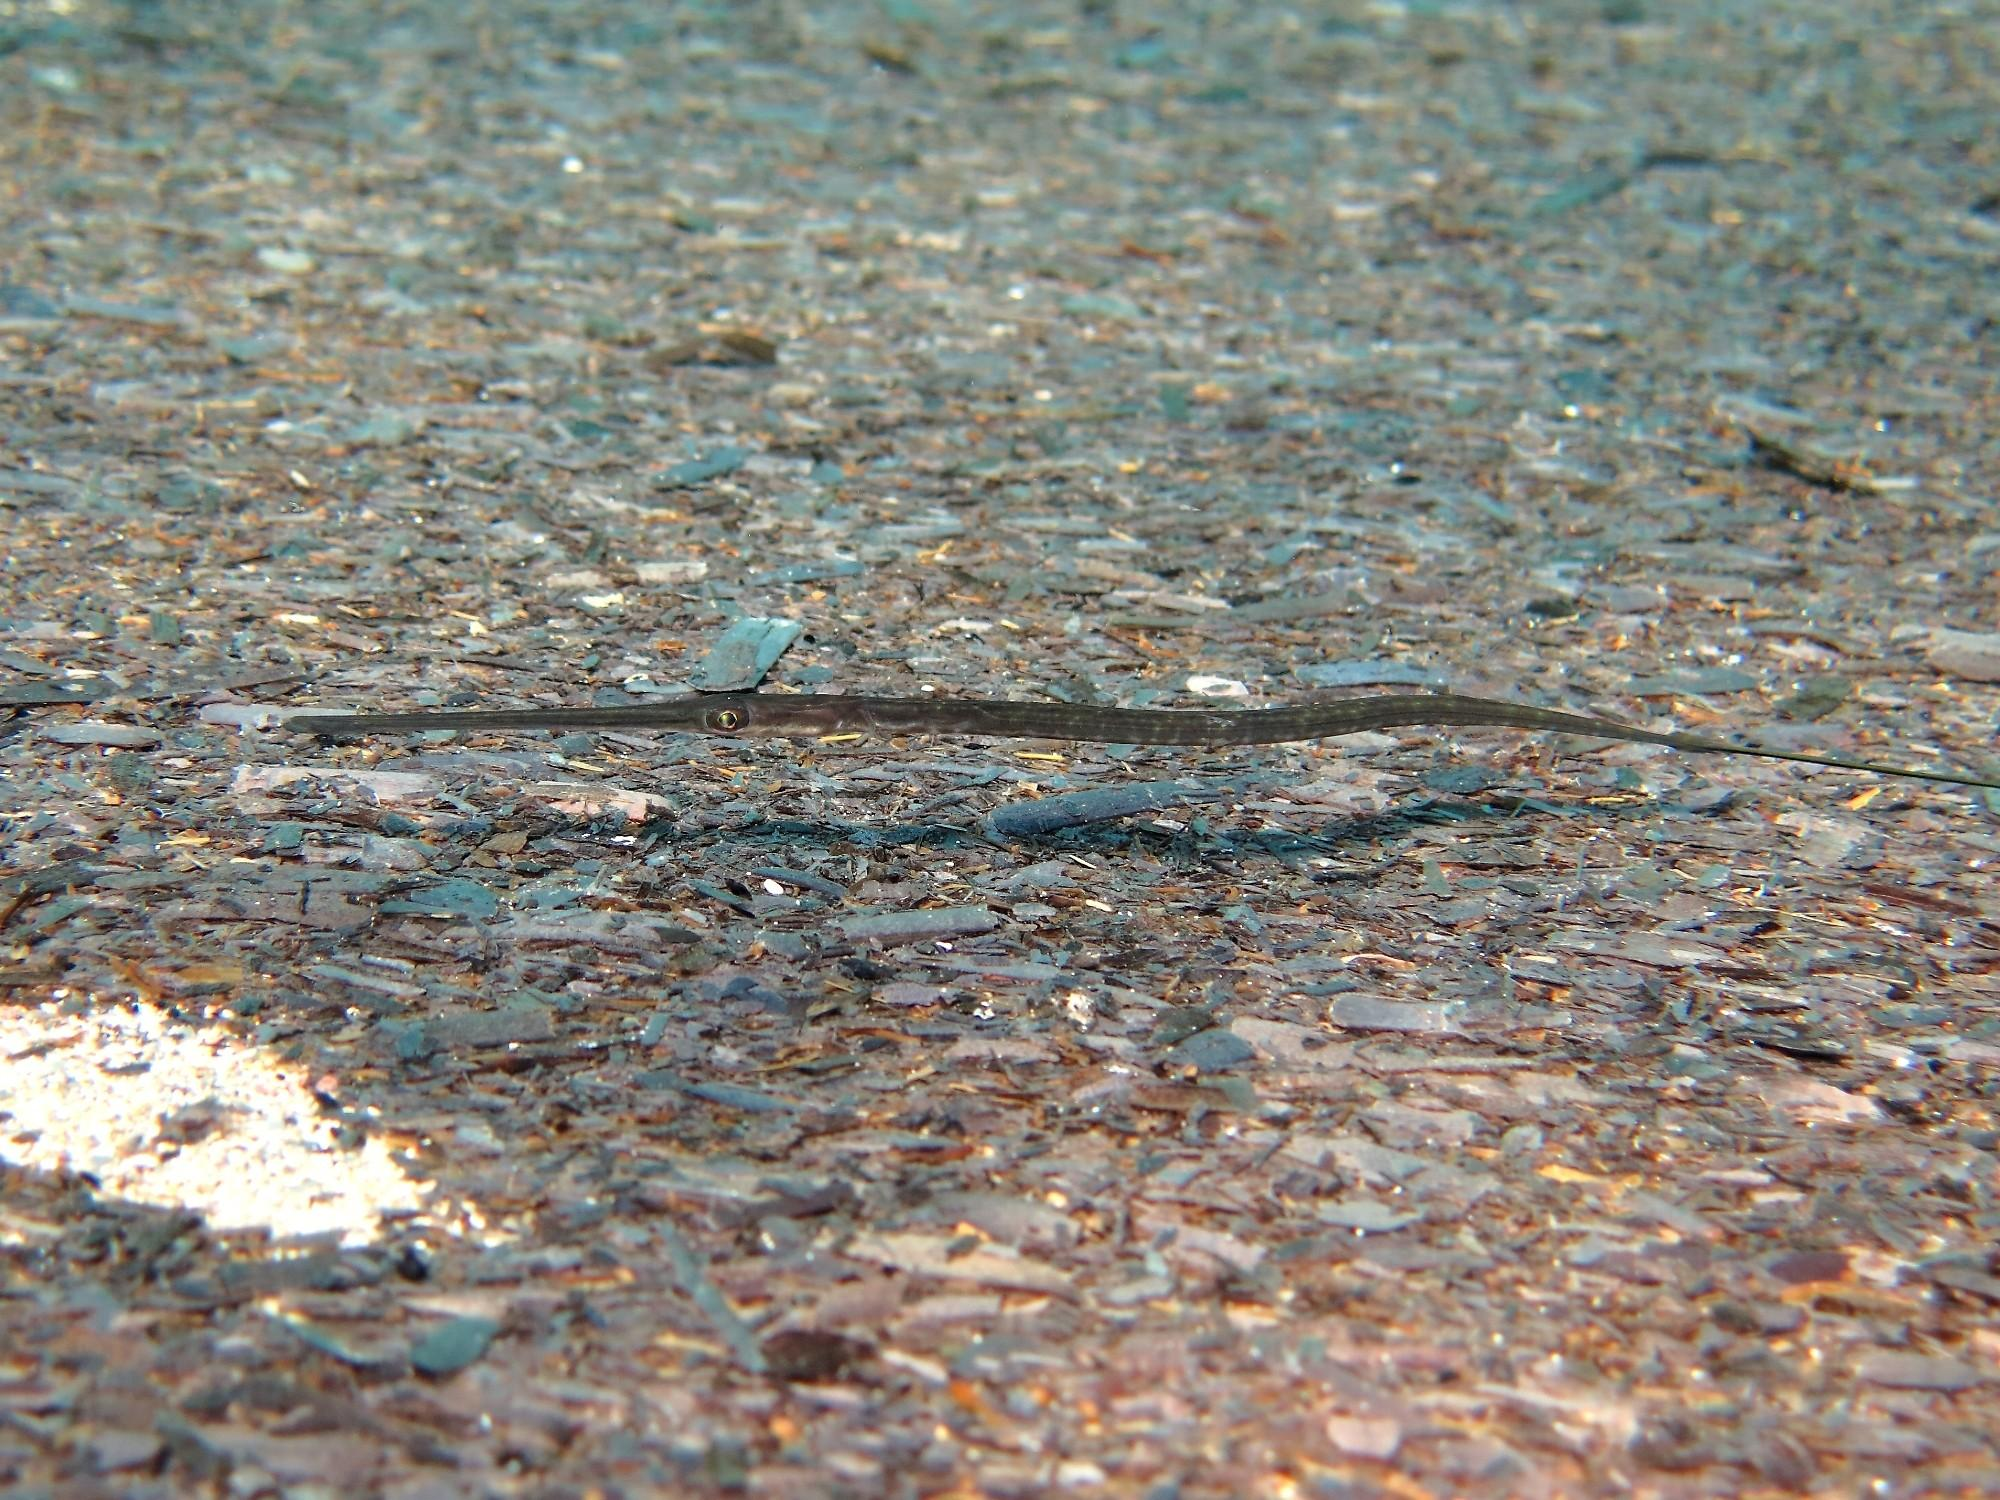Fistularia commersonii: (162, 558, 1954, 893)
